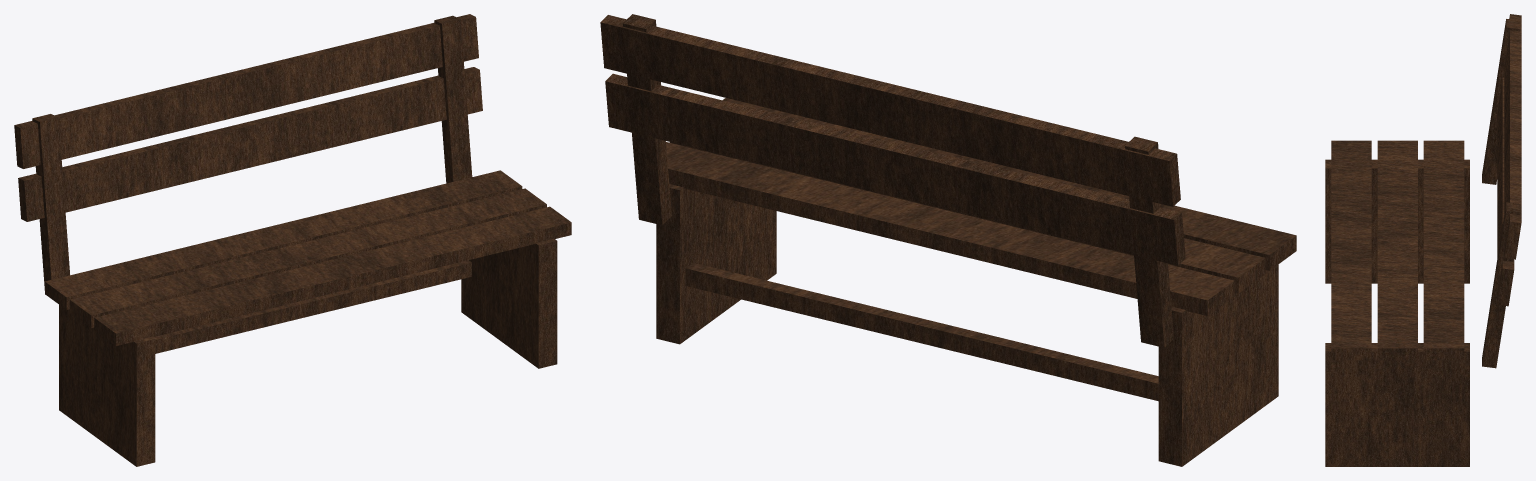
File: bench_wood_a.glb
The picture shows the model from 3 angles, left to right: view 1: azimuth 30°, elevation 25°; view 2: azimuth 150°, elevation 25°; view 3: azimuth 270°, elevation 25°; orthographic projection. The views are drawn at different scales.
Parts seen in each view (by area): view 1: bench_wood_a; view 2: bench_wood_a; view 3: bench_wood_a.
Part boxes in pixels (bbox=[...]): bench_wood_a: bbox=[14, 14, 571, 466]; bench_wood_a: bbox=[600, 14, 1296, 466]; bench_wood_a: bbox=[1325, 14, 1521, 466].
Size of the model in its own units: 1.7 by 0.9774 by 0.6777.
1 material, 1 textured.
